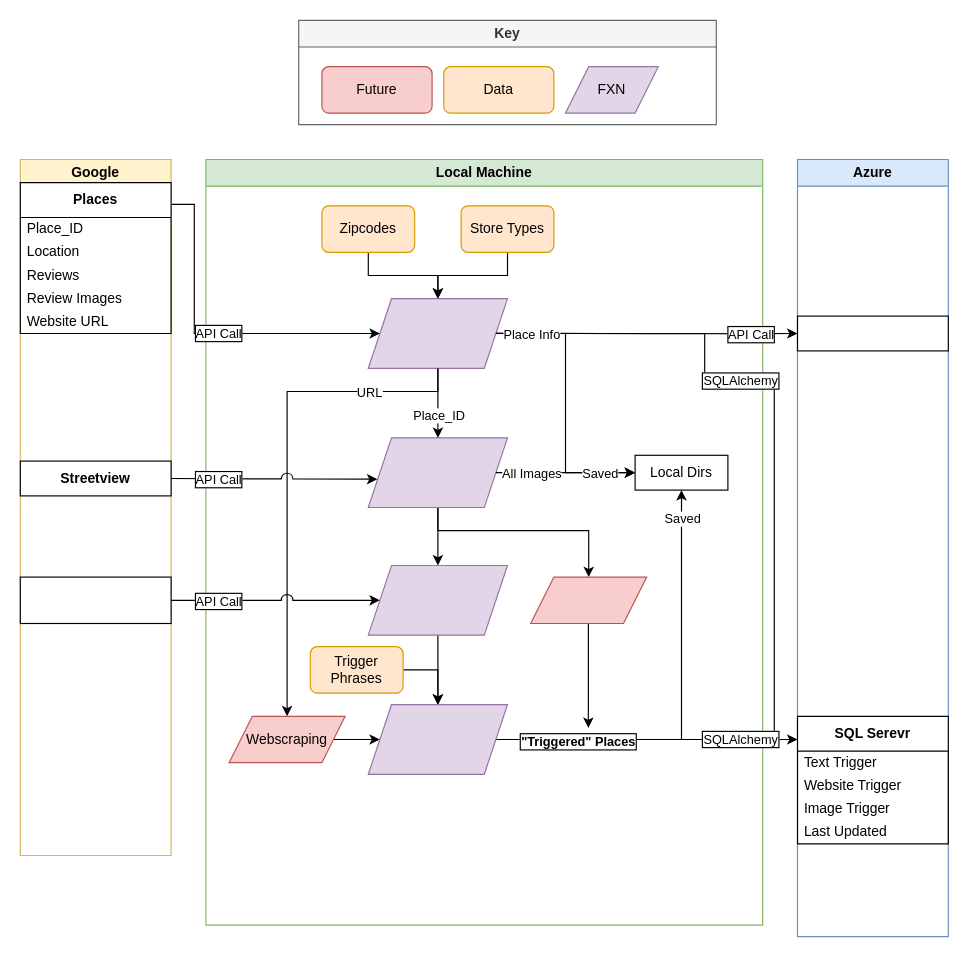
This 969x957 diagram has some shape labels left out. The centre of each missing label's shape, as x and y in pixels:
"Get Streetview Images" goes at point (437, 472).
"Image Recognition/ Clustering" goes at point (588, 600).
"Parse Text" goes at point (437, 739).
"Query to get Locations" goes at point (437, 333).
"Read Text" goes at point (437, 599).
"Storage Blob" goes at point (872, 333).
"Vision (OCR)" goes at point (95, 600).
